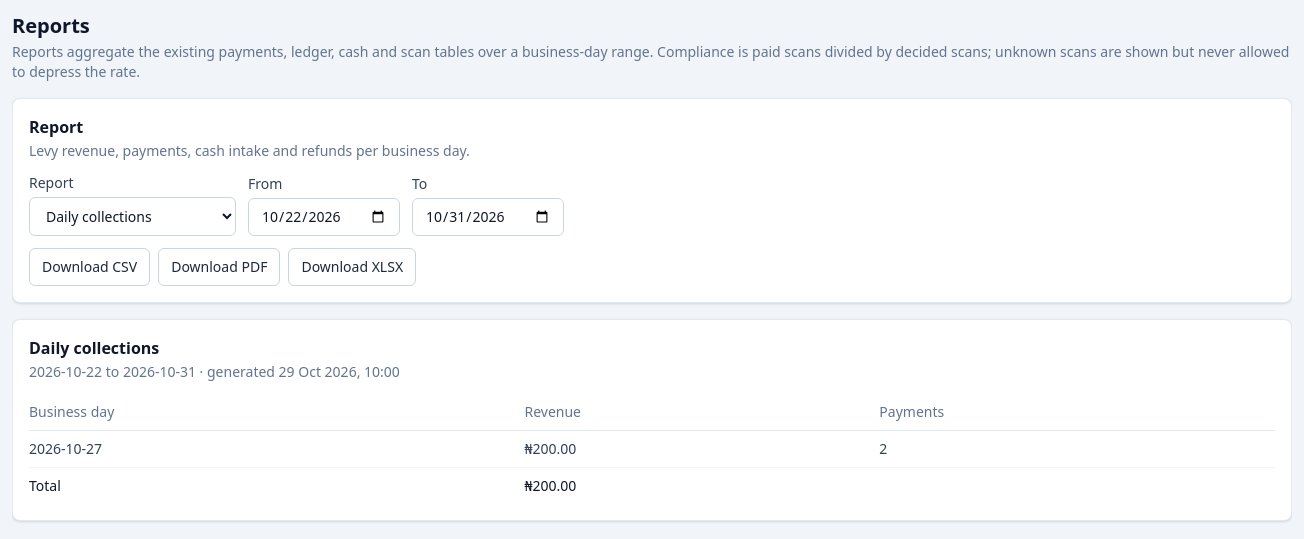
Scenario: ReportsPage › refetches when the report picker changes
The image size is (1304, 539).
Expected: the column heading "Business day" is shown, [29,394,524,430]
Select "Collections by zone" in the dropdown labelled "Report" at (132, 216), box [29,197,236,236]
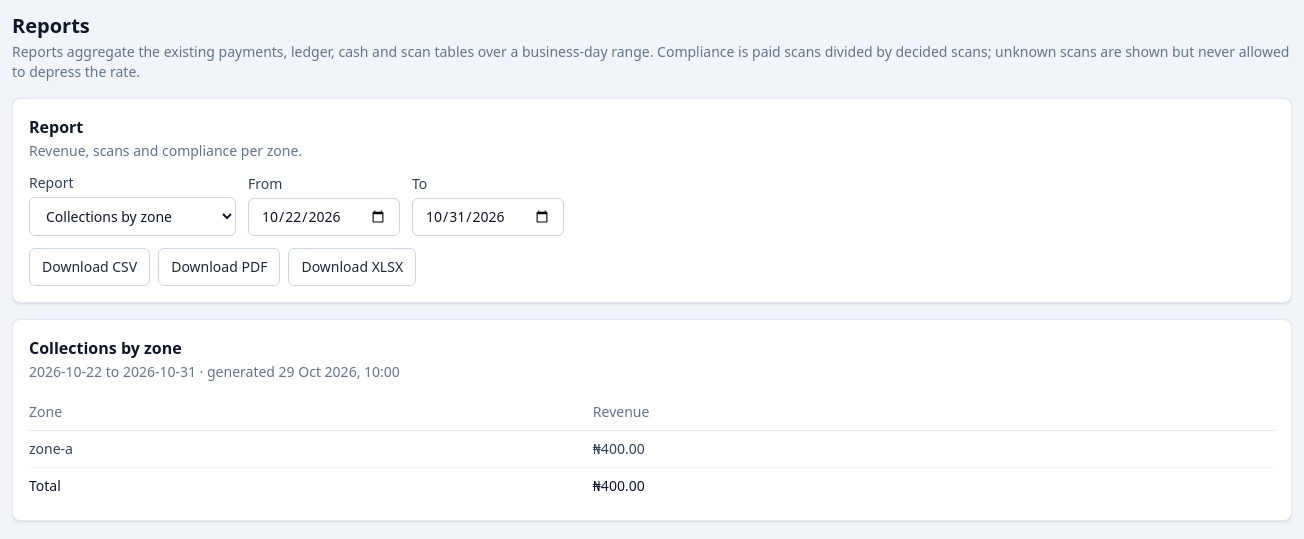
Expected: the column heading "Zone" is shown, [29,394,593,430]
Expected: the text "business day" is gone
